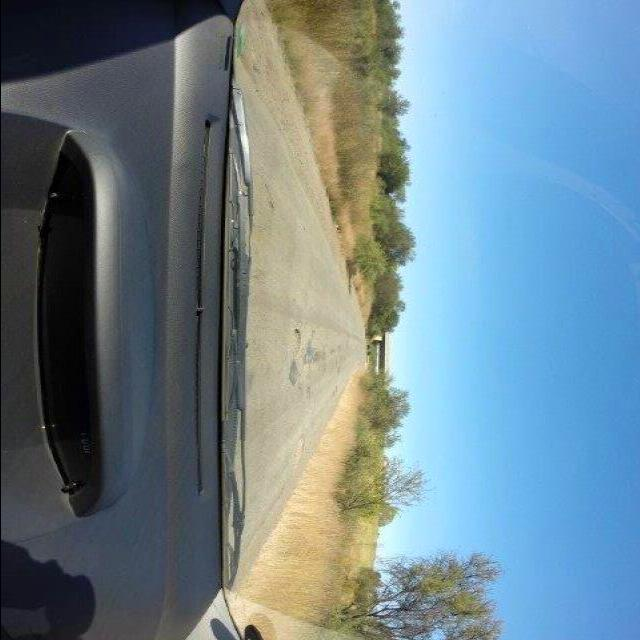lubang: (290, 324, 304, 350)
